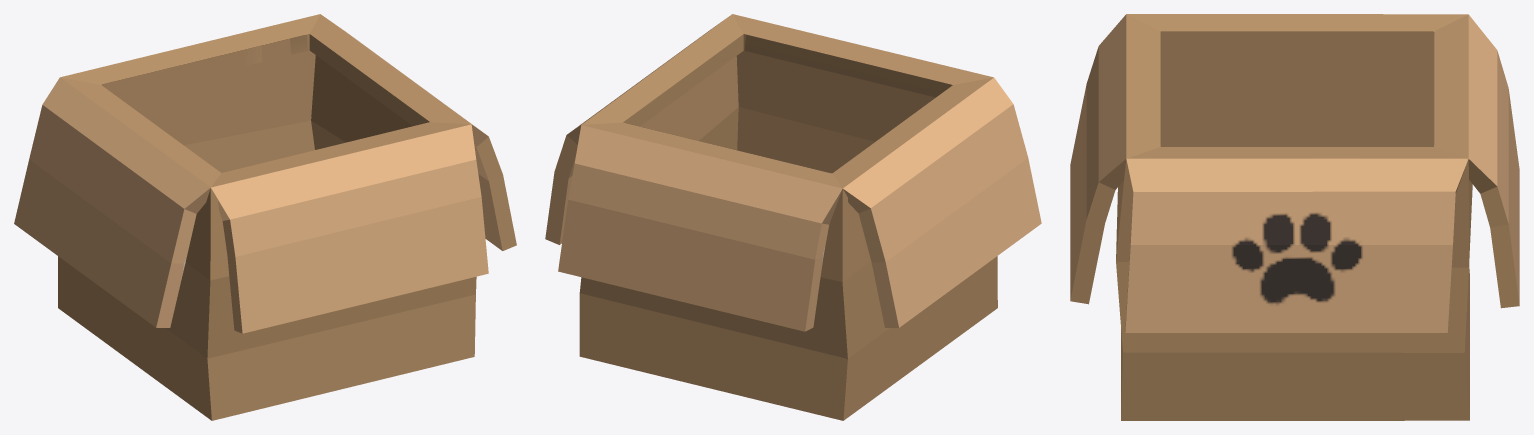
The picture shows the model from 3 angles, left to right: view 1: azimuth 30°, elevation 25°; view 2: azimuth 150°, elevation 25°; view 3: azimuth 270°, elevation 25°; orthographic projection. The views are drawn at different scales.
Visible parts, largest first — view 1: Куб; view 2: Куб; view 3: Куб.
Part boxes in pixels (bbox=[...]): Куб: bbox=[14, 14, 516, 420]; Куб: bbox=[545, 14, 1041, 420]; Куб: bbox=[1070, 14, 1519, 420].
Size of the model in its own units: 271 by 168 by 261.
